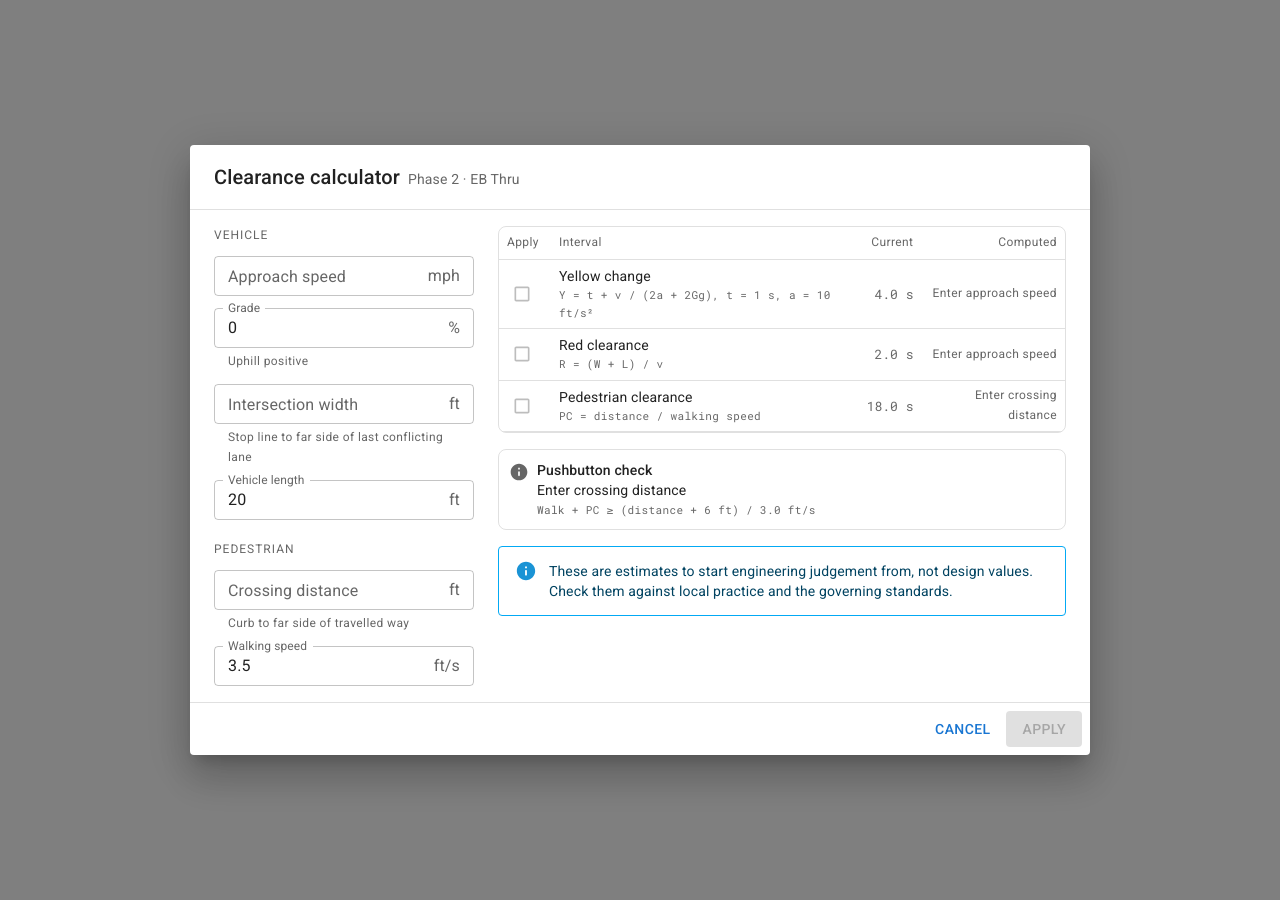
it: ClearanceDialog › runs the pushbutton check against the current walk
In the field labelled "Crossing distance": coordinates (327, 590) x1=214 y1=570 x2=441 y2=610, type "48"
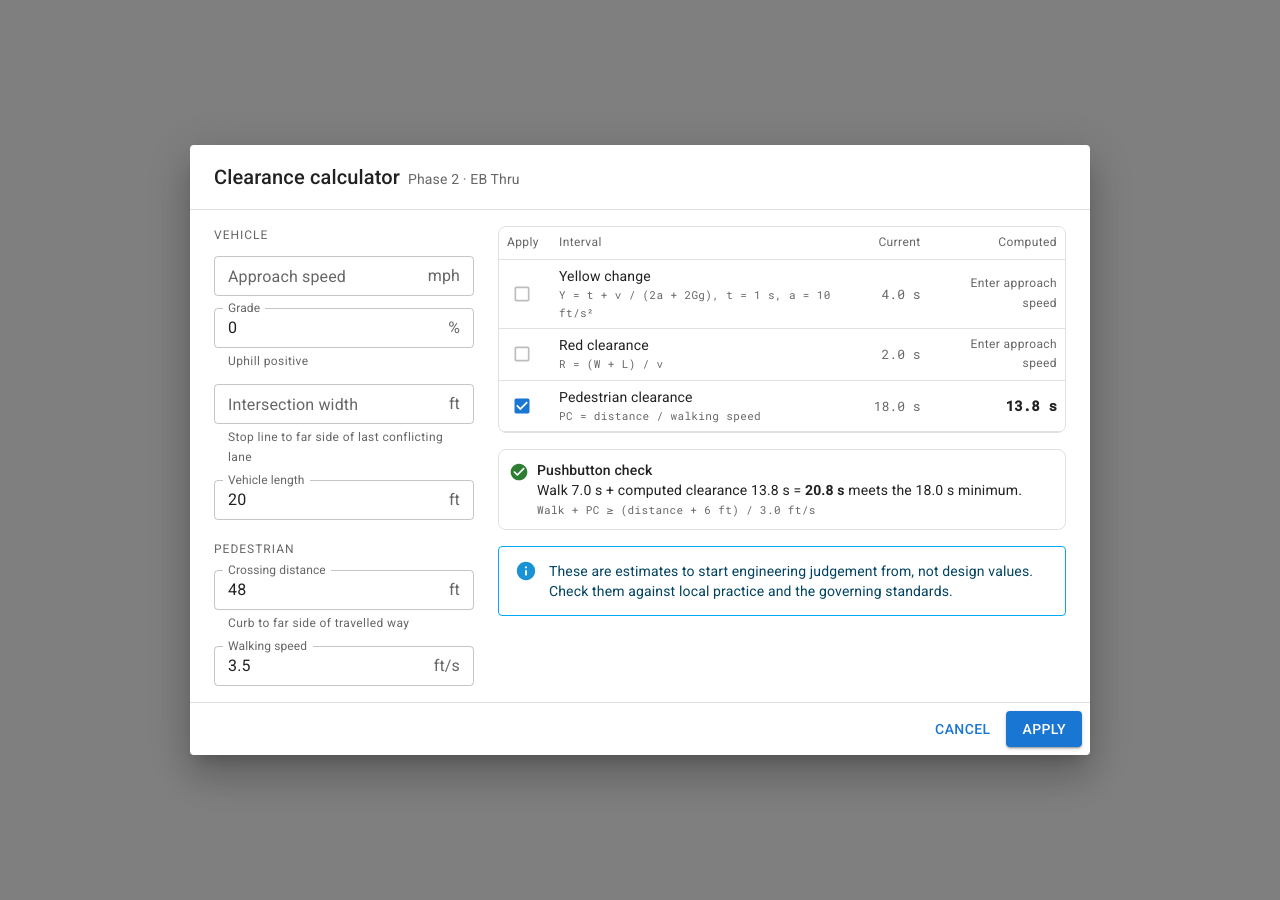
Check: the element with test id "pushbutton-check" shows "20.8 s meets the 18.0 s minimum", box x1=498 y1=449 x2=1066 y2=530
Replace the text in the field labelled "Crossing distance" with "80": coordinates (327, 590) x1=214 y1=570 x2=441 y2=610
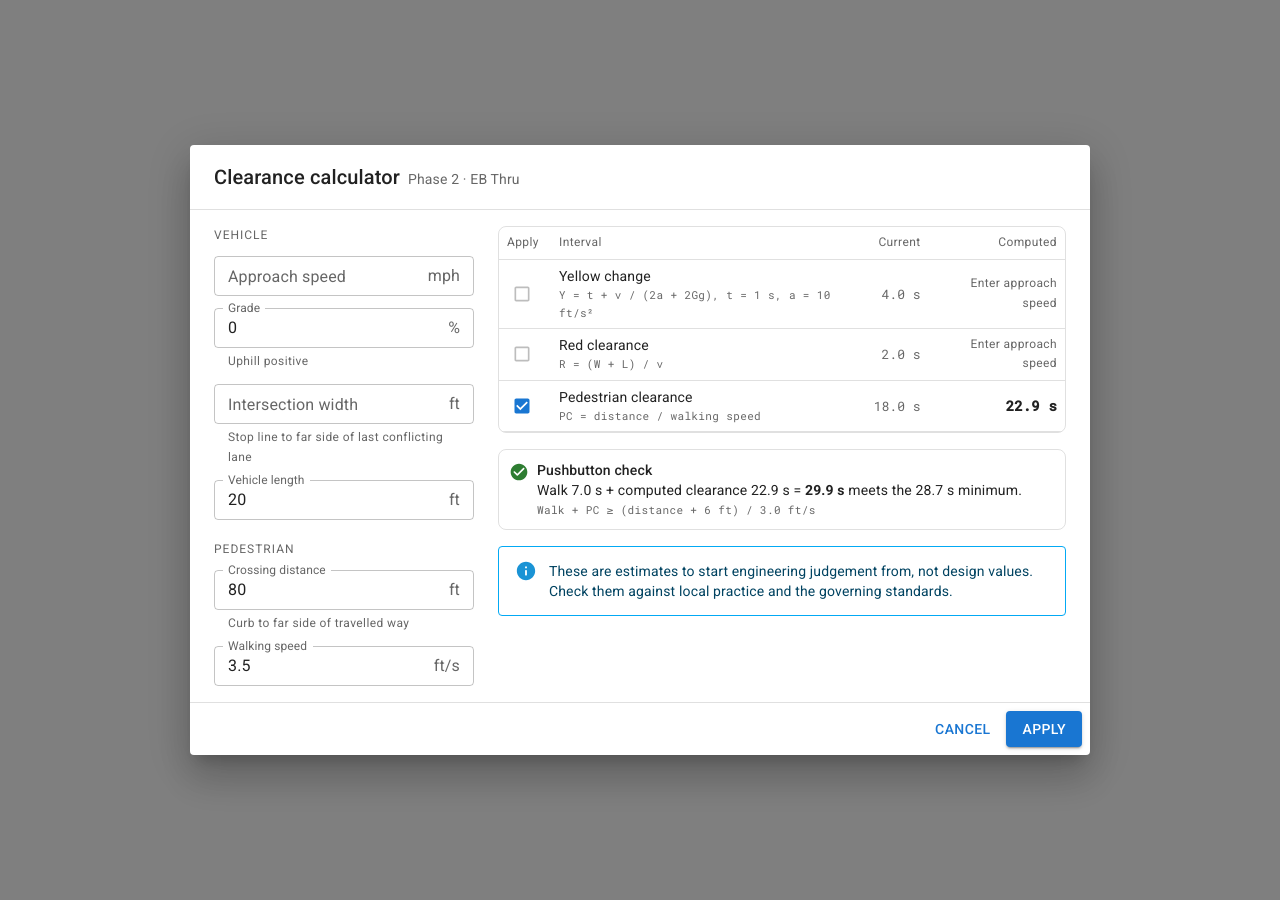
Replace the text in the field labelled "Walking speed" with "4": coordinates (320, 666) x1=214 y1=646 x2=426 y2=686
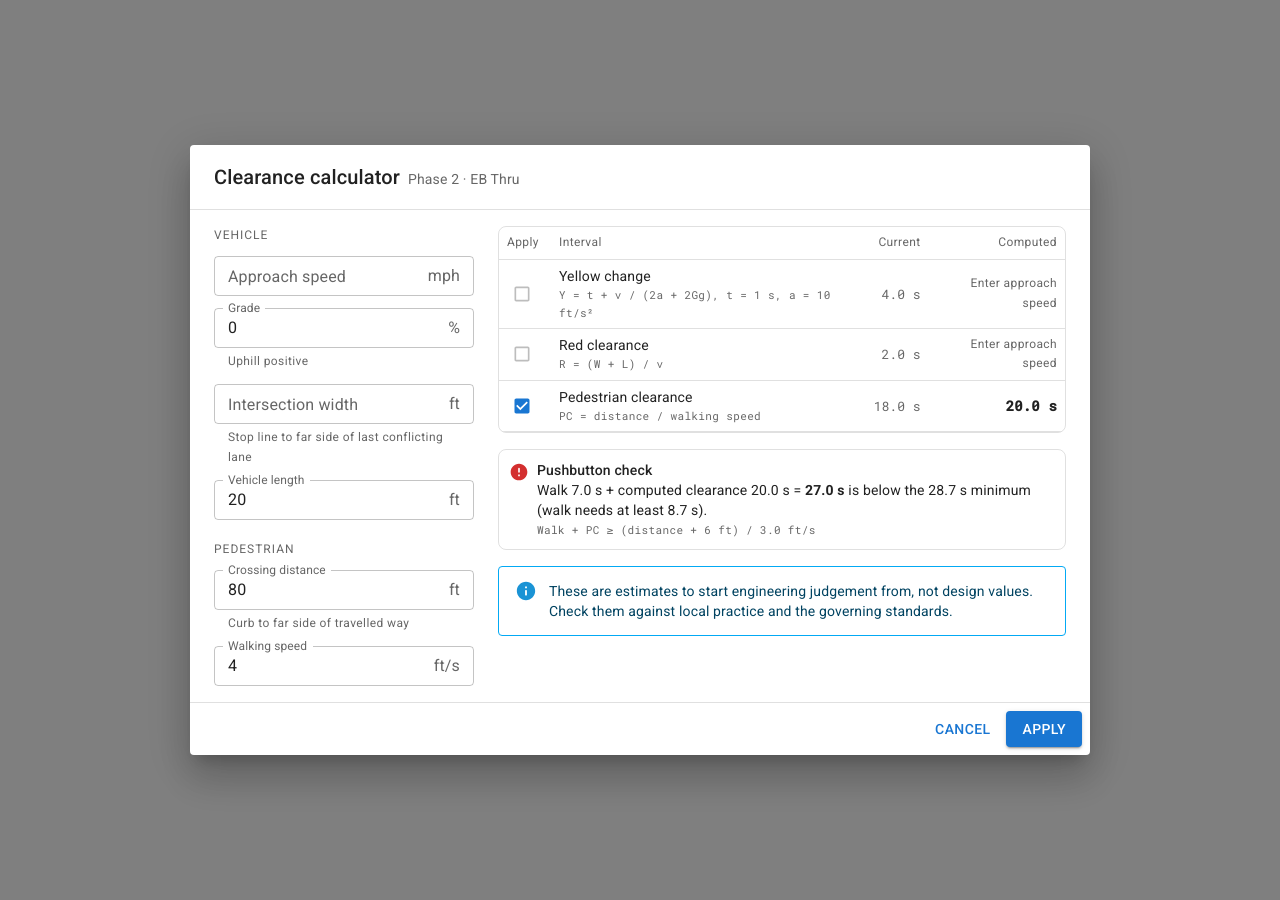
Check: the element with test id "pushbutton-check" shows "27.0 s is below the 28.7 s minimum (walk needs at least 8.7 s)", box x1=498 y1=449 x2=1066 y2=550
